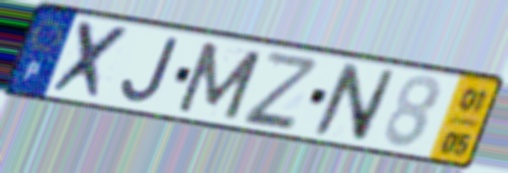8: (382, 73, 446, 154)
J: (118, 34, 184, 105)
M: (172, 39, 266, 123)
N: (309, 60, 400, 145)
X: (47, 17, 137, 104)
Z: (240, 47, 320, 130)
